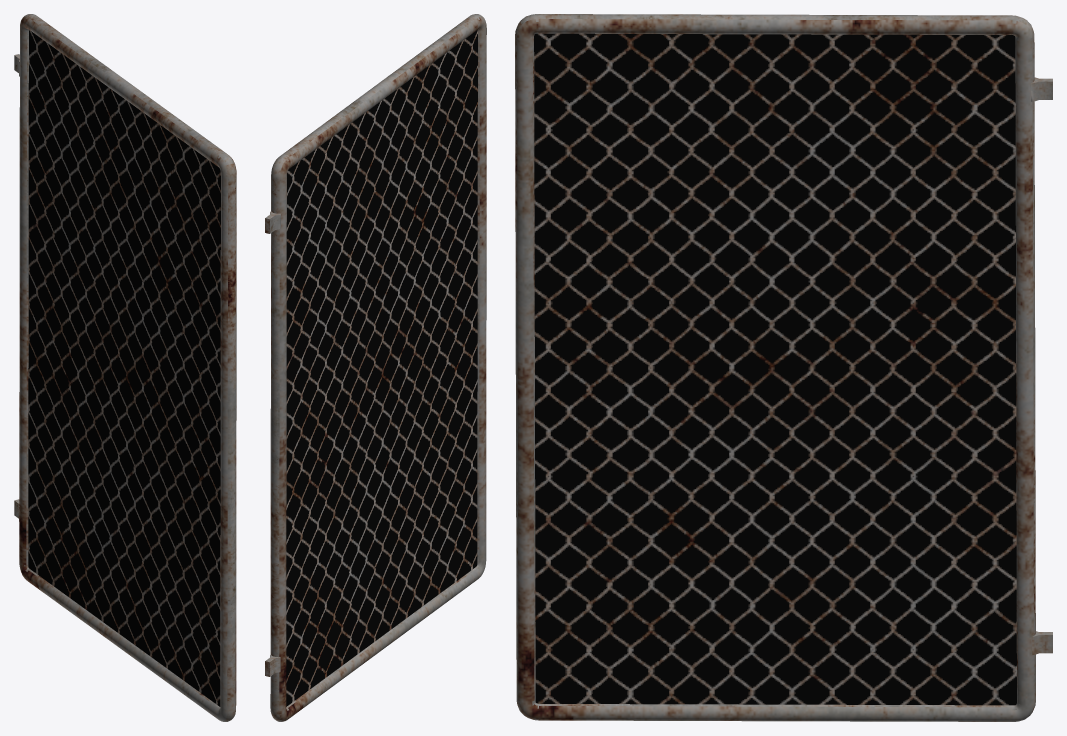
The model's file is FenceDoor.fbx.
3 renders of one model, left to right at view 1: azimuth 30°, elevation 25°; view 2: azimuth 150°, elevation 25°; view 3: azimuth 270°, elevation 25°, orthographic. The views are drawn at different scales.
Parts seen in each view (by area): view 1: Cube.008; view 2: Cube.008; view 3: Cube.008.
Part boxes in pixels (x1=…): Cube.008: x1=14, y1=14, x2=236, y2=721; Cube.008: x1=265, y1=14, x2=486, y2=721; Cube.008: x1=515, y1=14, x2=1052, y2=721.
Size of the model in its own units: 13.81 by 543 by 375.
Materials: 1 (1 with a texture image).
